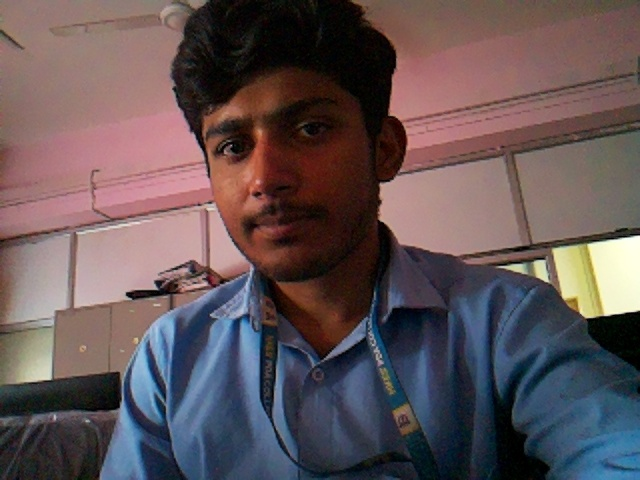Vaibhav: (169, 0, 407, 278)
